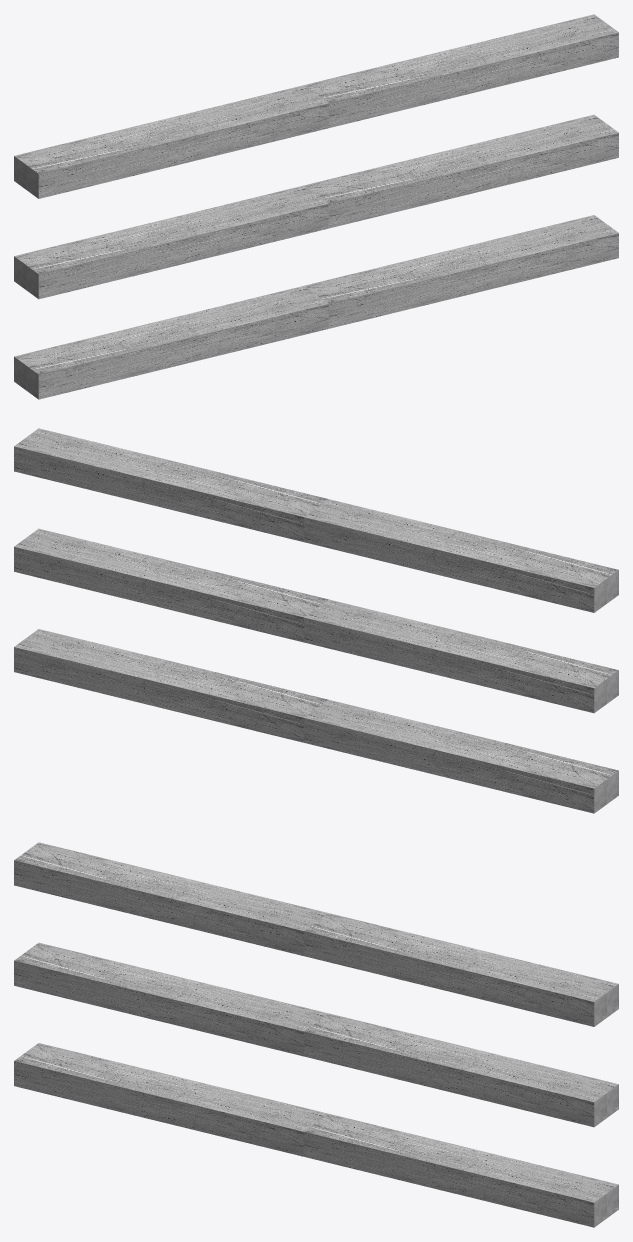
File: walltables.glb
3 views of the same model, one above another, from view 1: azimuth 30°, elevation 25°; view 2: azimuth 150°, elevation 25°; view 3: azimuth 330°, elevation 25° (orthographic).
Visible parts, largest first — view 1: walltables-col; view 2: walltables-col; view 3: walltables-col.
Part boxes in pixels (box(x1,y1,x2,y2)): walltables-col: box(14, 14, 618, 399); walltables-col: box(14, 428, 618, 813); walltables-col: box(14, 842, 618, 1227).
Size of the model in its own units: 3.36 by 1.25 by 0.2476.
Materials: 1 (1 with a texture image).
